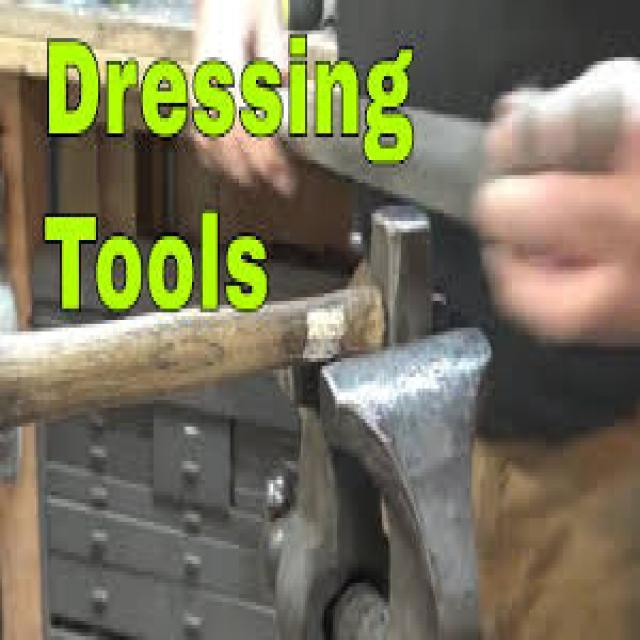hammer: (0, 175, 444, 465)
